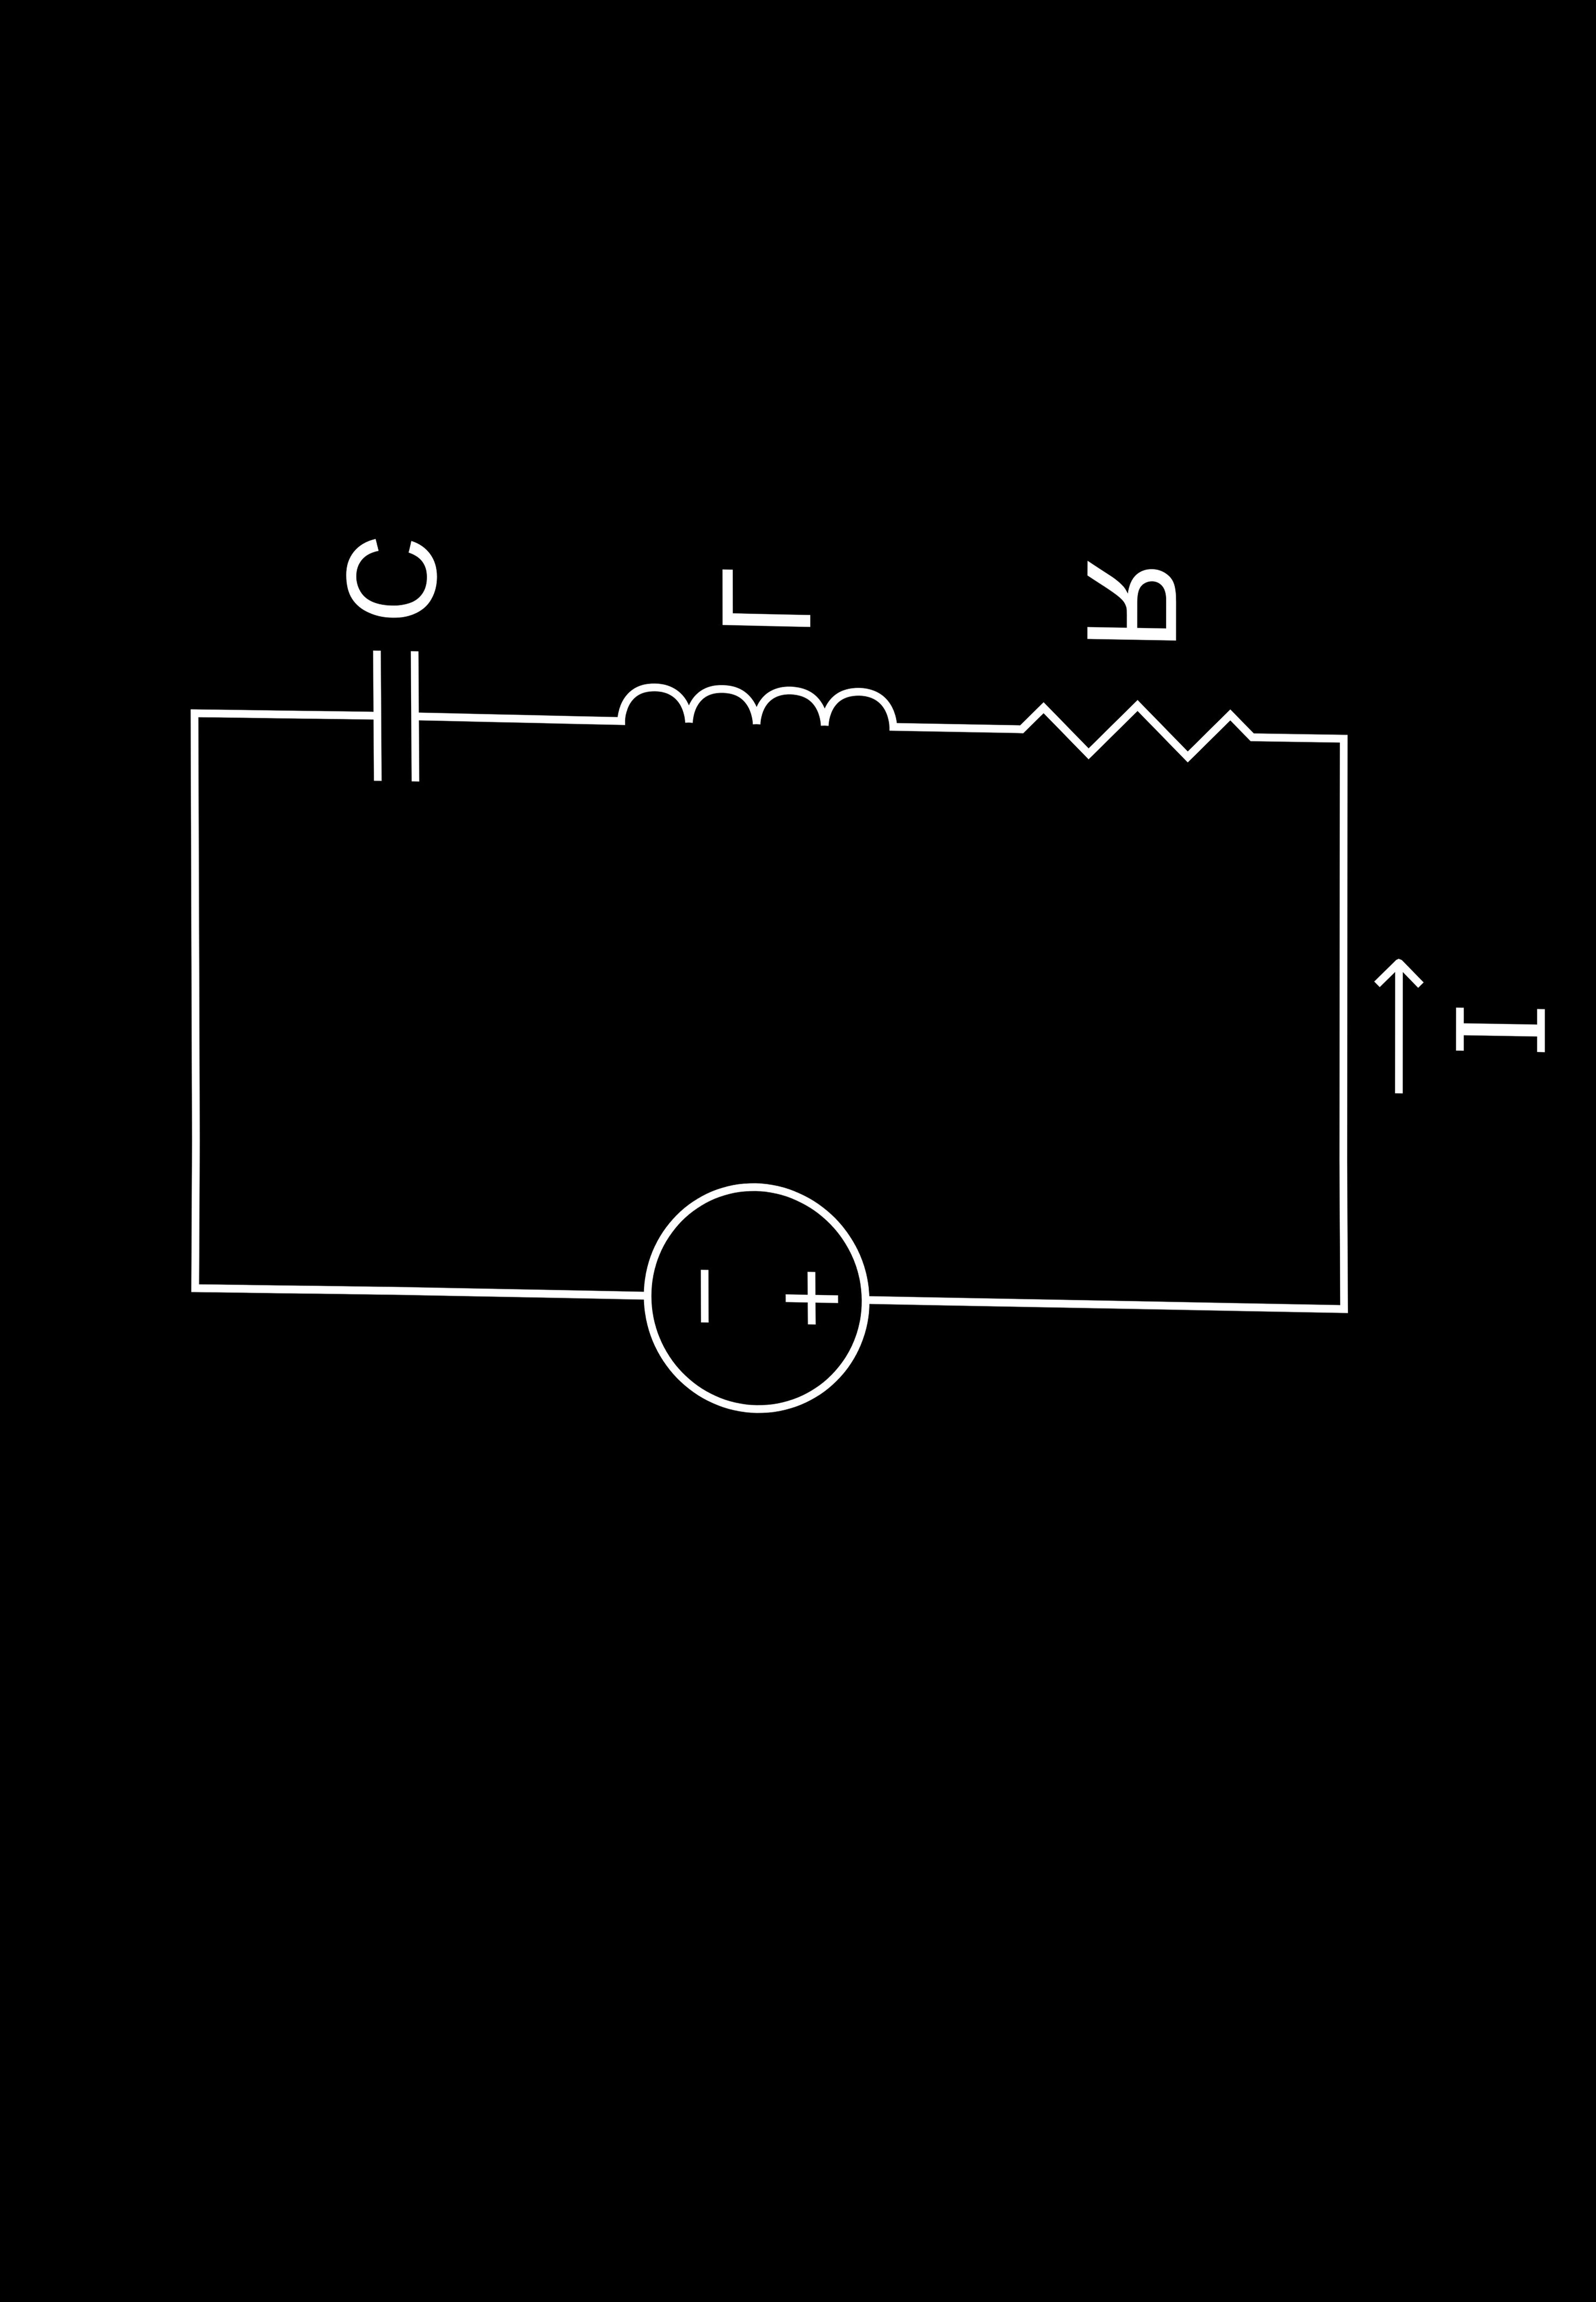Battery: (579, 1111, 934, 1466)
